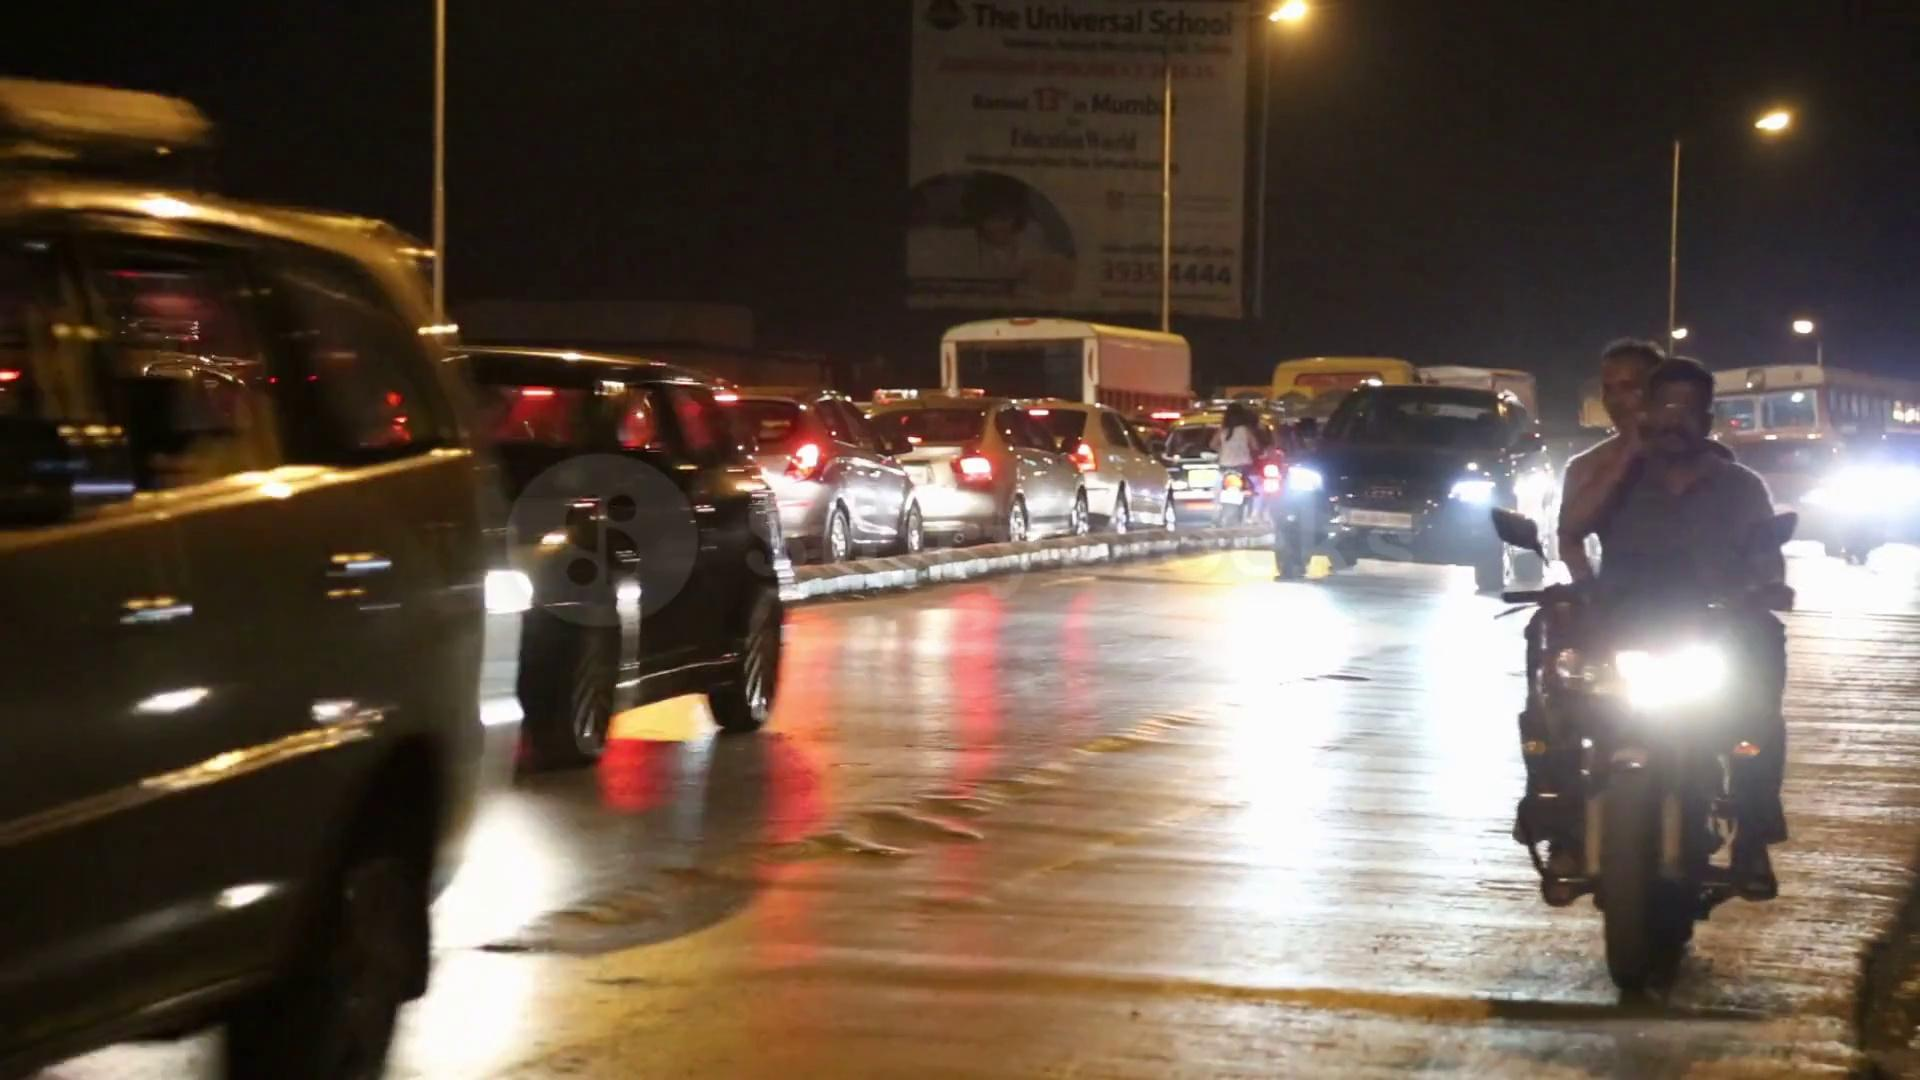rider: (1536, 351, 1794, 899)
without_helmate: (1640, 361, 1720, 459)
